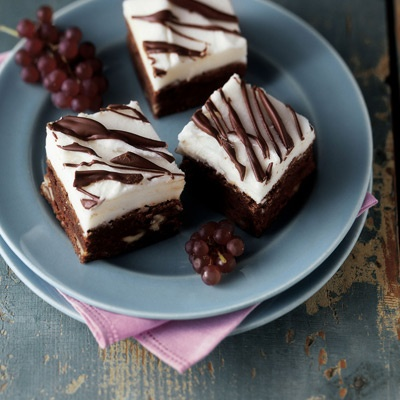background: (0, 0, 199, 179)
